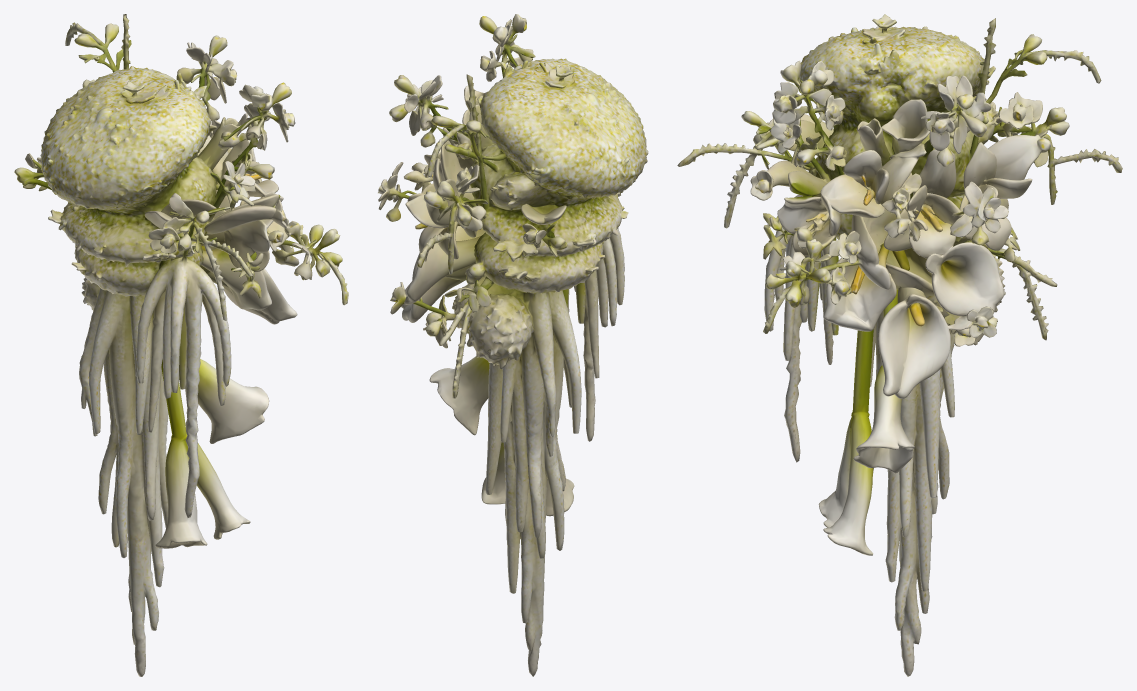
File: cascade_v1.glb
The picture shows the model from 3 angles, left to right: view 1: azimuth 30°, elevation 25°; view 2: azimuth 150°, elevation 25°; view 3: azimuth 270°, elevation 25°; orthographic projection. The views are drawn at different scales.
Parts seen in each view (by area): view 1: tripo_node_4c6f1aff-eba0-4c31-a161-4978d5db45b0; view 2: tripo_node_4c6f1aff-eba0-4c31-a161-4978d5db45b0; view 3: tripo_node_4c6f1aff-eba0-4c31-a161-4978d5db45b0.
Boxes of the visible parts, x1,y1,x2,y2 form: tripo_node_4c6f1aff-eba0-4c31-a161-4978d5db45b0: (14,14,348,676); tripo_node_4c6f1aff-eba0-4c31-a161-4978d5db45b0: (378,14,648,676); tripo_node_4c6f1aff-eba0-4c31-a161-4978d5db45b0: (677,14,1122,676).
Size of the model in its own units: 0.4077 by 1 by 0.6017.
Materials: 1 (1 with a texture image).
